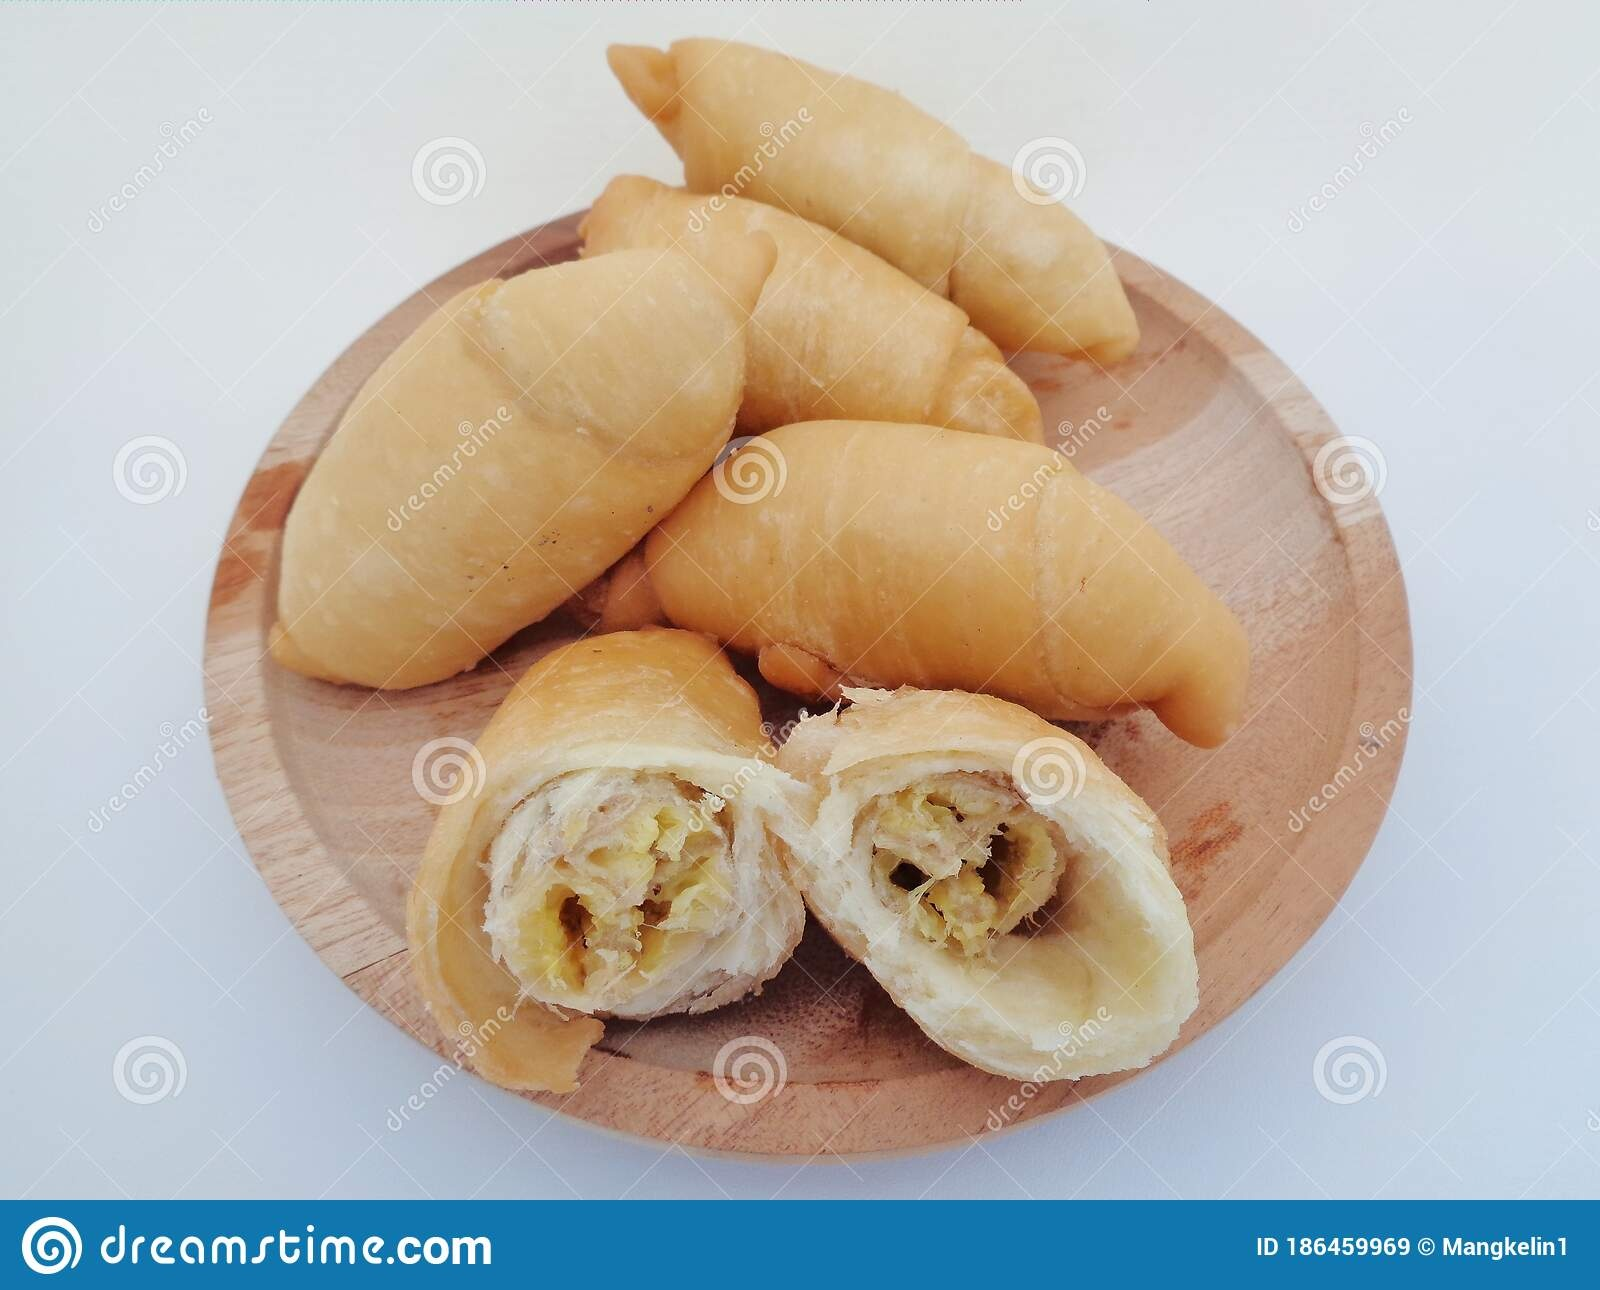pisang_molen: (593, 407, 1247, 754), (267, 226, 753, 691), (607, 34, 1154, 363)
